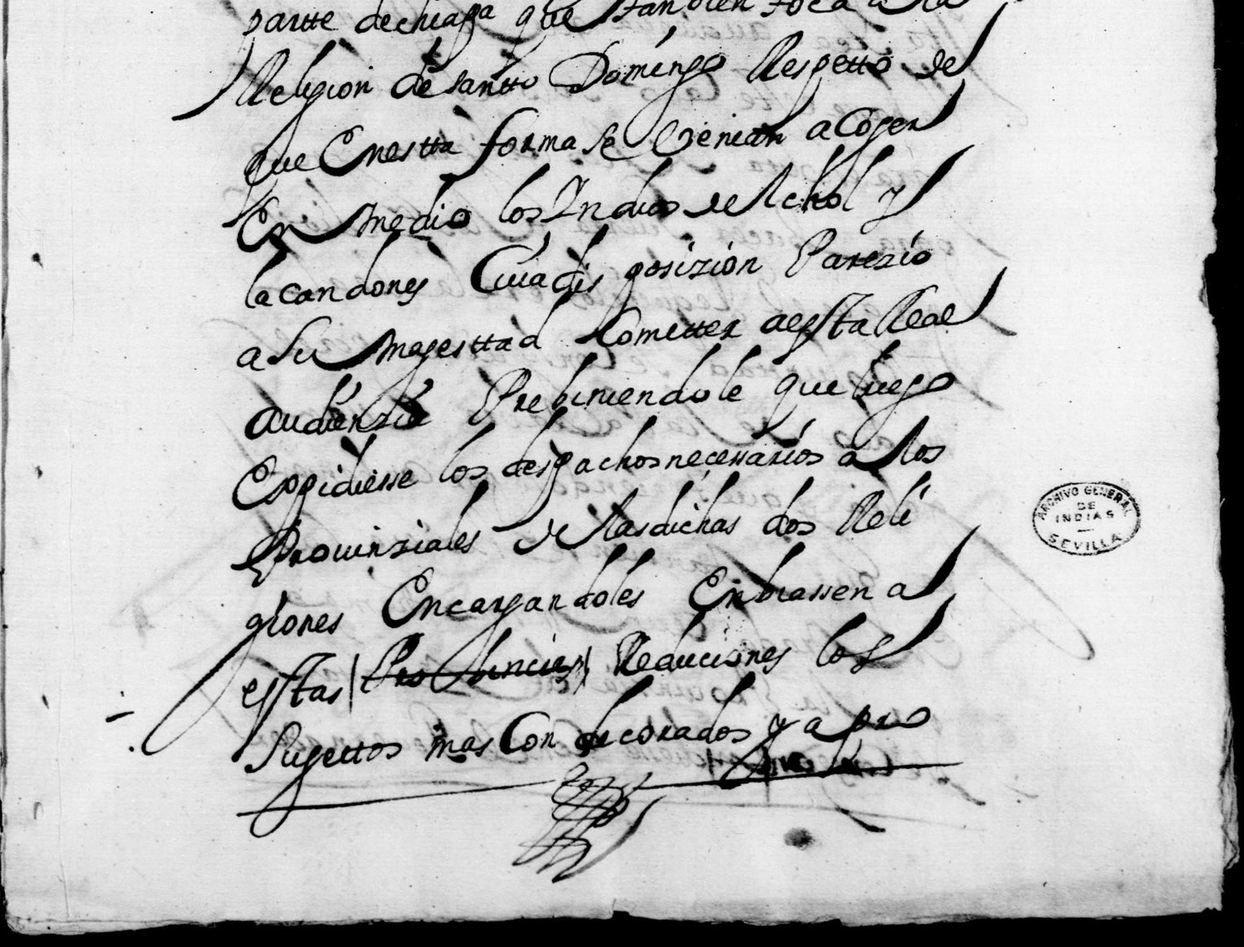lacandon: (245, 230, 428, 309)
